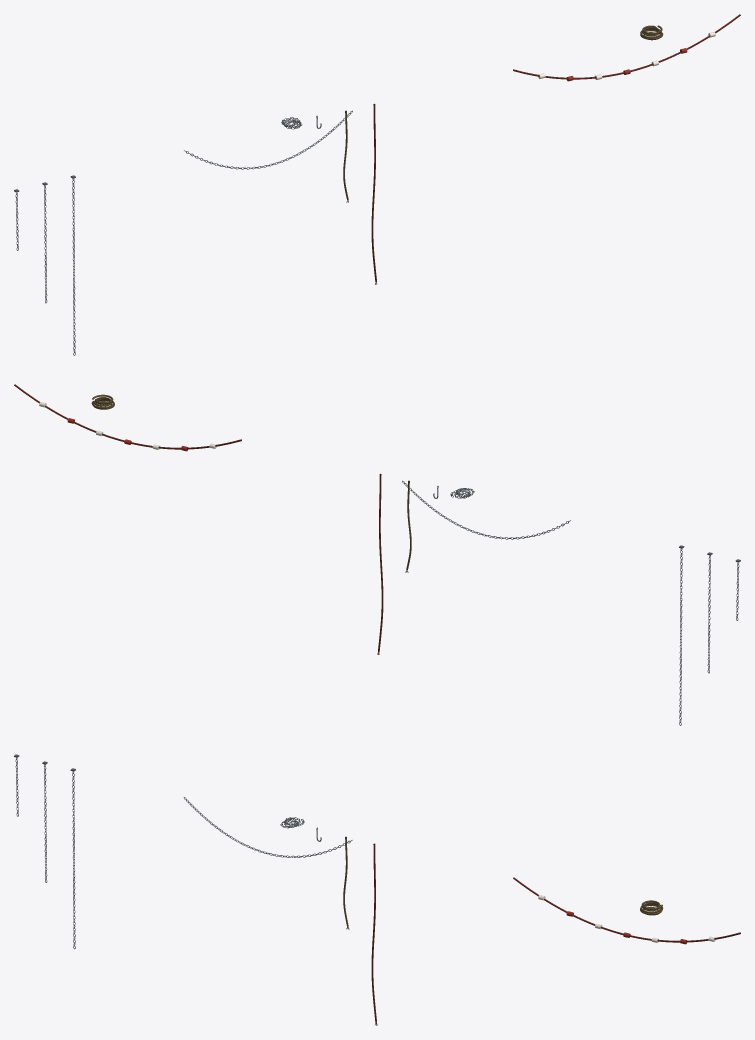
Rendered from catene_corde.glb.
3 renders of one model, top to bottom at view 1: azimuth 30°, elevation 25°; view 2: azimuth 150°, elevation 25°; view 3: azimuth 330°, elevation 25°, orthographic.
Parts seen in each view (by area): view 1: det_corda_galleggianti_4m; view 2: det_corda_galleggianti_4m; view 3: det_corda_galleggianti_4m.
Part boxes in pixels (x1,y1,x2,y2): det_corda_galleggianti_4m: (513, 14, 740, 81); det_corda_galleggianti_4m: (14, 384, 241, 451); det_corda_galleggianti_4m: (513, 877, 740, 944).
Size of the model in its own units: 12.79 by 3.18 by 0.3864.
Materials: 5 (3 with a texture image).
